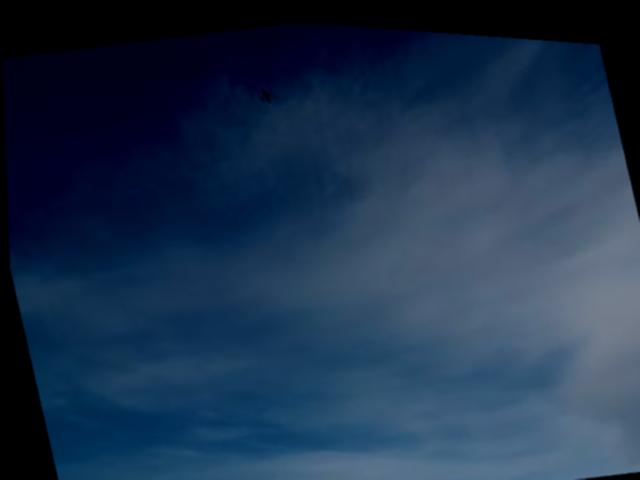uav: (252, 78, 276, 105)
